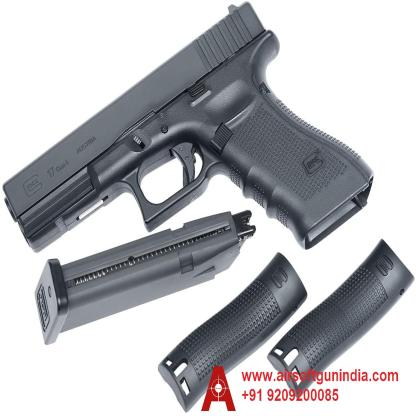handgun: (2, 4, 378, 251)
